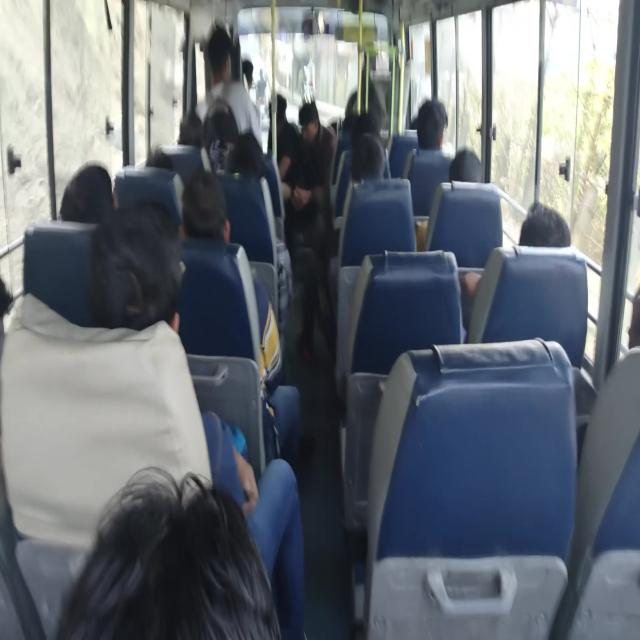person: (87, 199, 306, 637), (55, 465, 282, 639), (178, 168, 300, 464), (459, 200, 571, 338), (284, 100, 337, 360), (195, 23, 263, 155), (59, 160, 115, 224), (266, 93, 300, 181), (518, 201, 571, 247), (350, 132, 386, 183), (416, 98, 448, 150), (448, 147, 482, 182)
